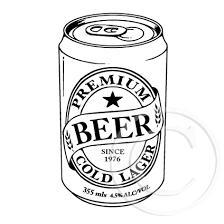beer: (57, 12, 167, 208)
